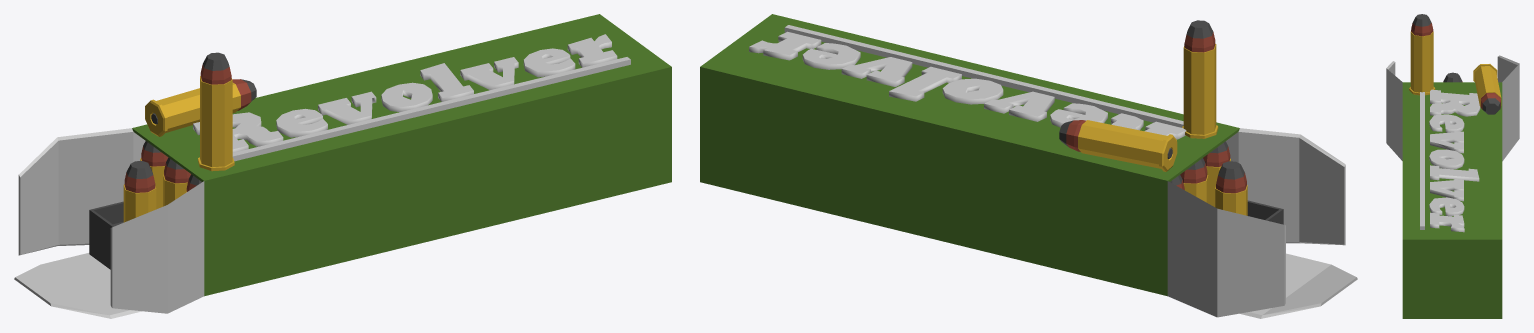
Rendered from Ammo_Pack_Revolver.glb.
3 views of the same model, side by side, from view 1: azimuth 30°, elevation 25°; view 2: azimuth 150°, elevation 25°; view 3: azimuth 270°, elevation 25° (orthographic). The views are drawn at different scales.
Visible parts, largest first — view 1: Ammo_Pack_Revolver; view 2: Ammo_Pack_Revolver; view 3: Ammo_Pack_Revolver.
Part boxes in pixels (<box>): Ammo_Pack_Revolver: <box>14,14,671,318</box>; Ammo_Pack_Revolver: <box>700,14,1357,318</box>; Ammo_Pack_Revolver: <box>1386,14,1519,318</box>.
Bounding box in the file's own units: 0.2394 × 0.0847 × 0.0666.
1 material, 1 textured.
